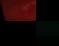altar: (0, 0, 36, 21)
zombie: (36, 21, 59, 46)
